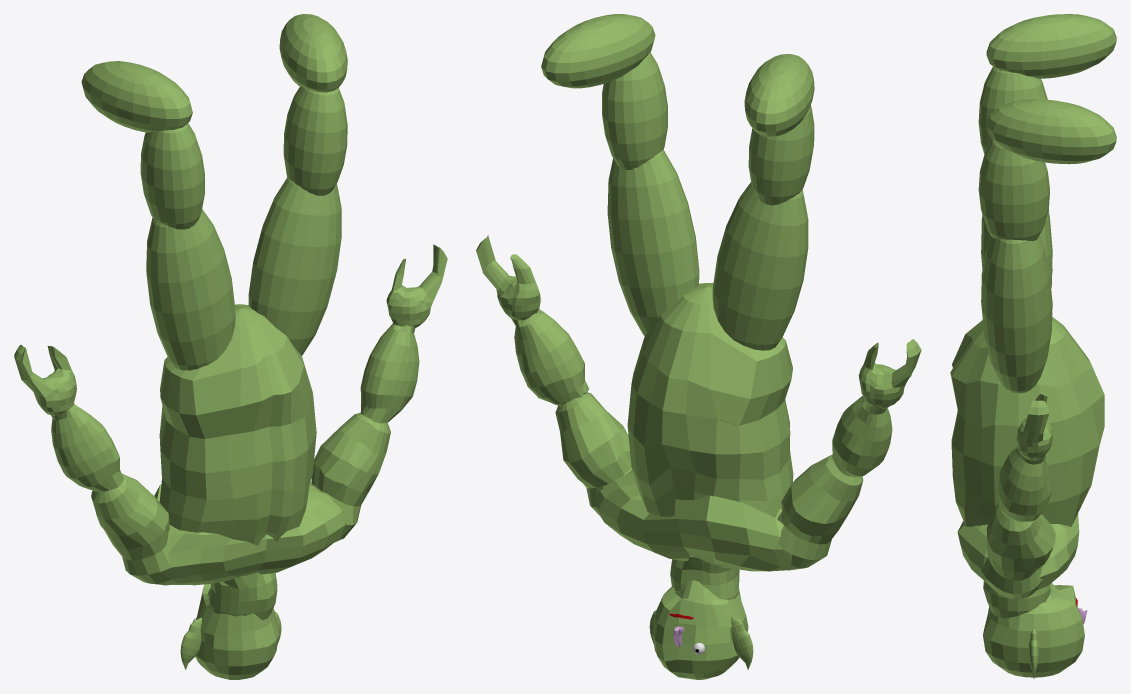
Rendered from goblin.glb.
The picture shows the model from 3 angles, left to right: view 1: azimuth 30°, elevation 25°; view 2: azimuth 150°, elevation 25°; view 3: azimuth 270°, elevation 25°; orthographic projection. The views are drawn at different scales.
Visible parts, largest first — view 1: Sphere, Sphere.017, Sphere.003, Sphere.001, Sphere.004, Sphere.018, Sphere.005, Sphere.002, Sphere.012, Sphere.009, Sphere.011, Sphere.006 (+5 smaller); view 2: Sphere, Sphere.003, Sphere.017, Sphere.001, Sphere.009, Sphere.016, Sphere.005, Sphere.018, Sphere.012, Sphere.011, Sphere.004, Sphere.002 (+5 smaller); view 3: Sphere, Sphere.017, Sphere.016, Sphere.004, Sphere.009, Sphere.018, Sphere.012, Sphere.011, Sphere.001, Sphere.002, Sphere.010, Sphere.008 (+2 smaller).
Part boxes in pixels (x1,y1,x2,y2): Sphere: (159, 304, 316, 545); Sphere.017: (248, 178, 341, 355); Sphere.003: (146, 209, 235, 370); Sphere.001: (154, 482, 345, 585); Sphere.004: (81, 61, 192, 132); Sphere.018: (283, 86, 347, 195); Sphere.005: (91, 473, 170, 584); Sphere.002: (140, 123, 204, 229); Sphere.012: (311, 412, 390, 542); Sphere.009: (195, 584, 278, 679); Sphere.011: (360, 323, 419, 423); Sphere.006: (51, 403, 123, 491); Sphere: (627, 283, 793, 543); Sphere.003: (712, 182, 808, 350); Sphere.017: (607, 150, 699, 335); Sphere.001: (592, 470, 790, 571); Sphere.009: (652, 580, 748, 679); Sphere.016: (541, 14, 655, 88); Sphere.005: (777, 455, 863, 570); Sphere.018: (602, 52, 667, 169); Sphere.012: (555, 392, 632, 515); Sphere.011: (511, 309, 588, 405); Sphere.004: (744, 54, 814, 136); Sphere.002: (748, 105, 814, 205); Sphere: (950, 317, 1104, 526); Sphere.017: (981, 235, 1052, 393); Sphere.016: (986, 99, 1116, 164); Sphere.004: (986, 14, 1116, 78); Sphere.009: (983, 583, 1084, 677); Sphere.018: (978, 139, 1049, 240); Sphere.012: (981, 505, 1055, 598); Sphere.011: (998, 446, 1051, 522); Sphere.001: (957, 513, 1079, 590); Sphere.002: (978, 66, 1047, 153); Sphere.010: (1017, 394, 1052, 460); Sphere.008: (983, 581, 1050, 618).
Size of the model in its own units: 2.19 by 3.05 by 0.7455.
